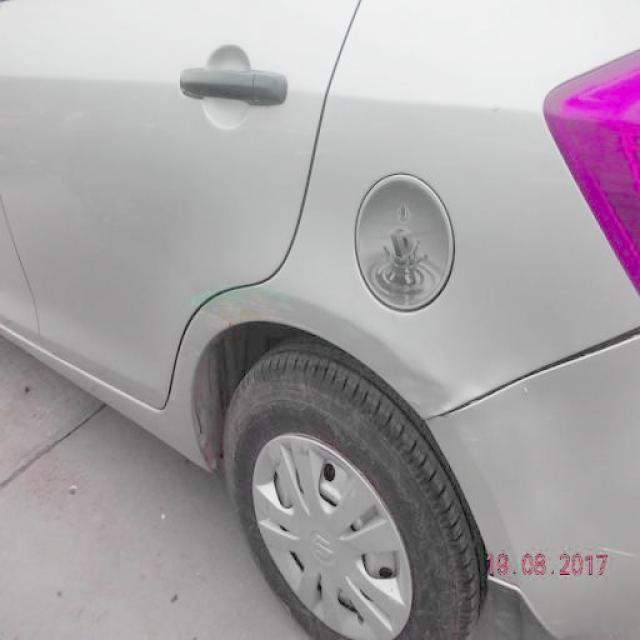car damage: (381, 372, 503, 447), (189, 284, 305, 326)
